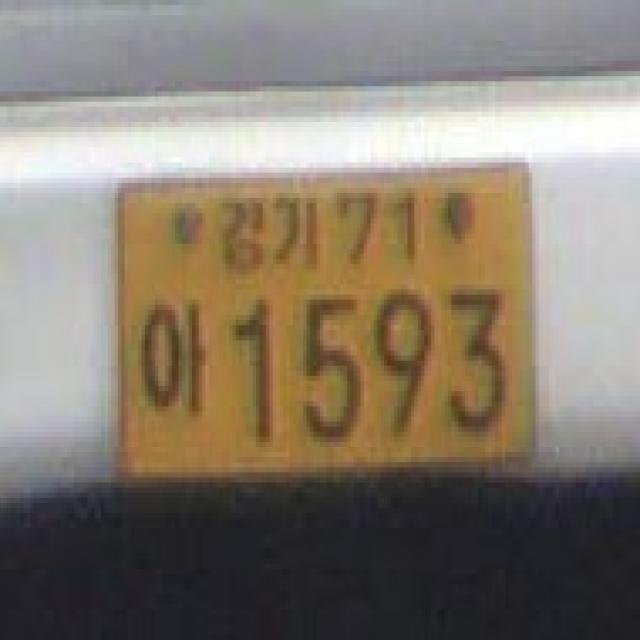plat: (114, 161, 536, 481)
